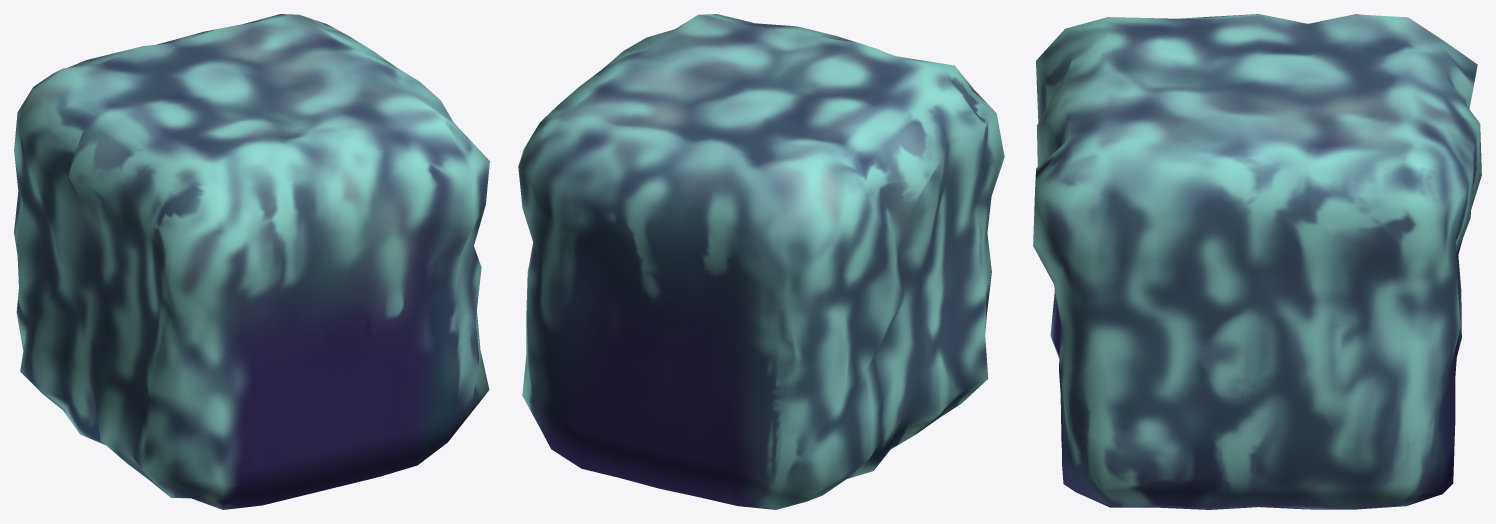
The model's file is MossyBox_Level2.fbx.
3 views of the same model, side by side, from view 1: azimuth 30°, elevation 25°; view 2: azimuth 150°, elevation 25°; view 3: azimuth 270°, elevation 25° (orthographic). The views are drawn at different scales.
Parts seen in each view (by area): view 1: cube; view 2: cube; view 3: cube.
Part boxes in pixels (x1,y1,x2,y2): cube: [14, 14, 489, 509]; cube: [518, 14, 1004, 509]; cube: [1033, 14, 1481, 509].
Bounding box in the file's own units: 167 × 157 × 171.
